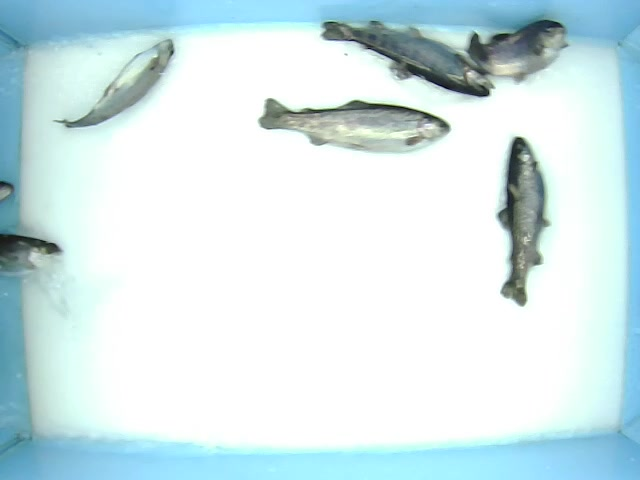fish: (319, 16, 497, 98), (48, 34, 176, 130), (256, 94, 451, 155), (495, 134, 552, 306), (467, 15, 570, 89)
